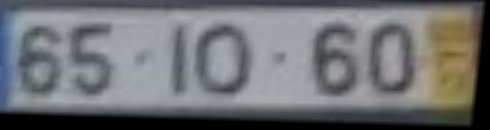0: (363, 20, 420, 99)
5: (70, 24, 119, 102)
6: (309, 22, 362, 103), (16, 25, 67, 102)
I: (170, 23, 192, 99)
O: (194, 22, 255, 101)
